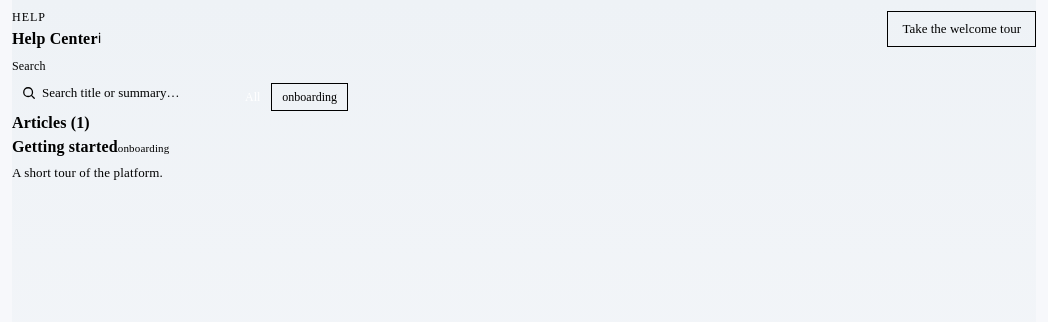
Test: HelpArticleListPage › clears filters via the EmptyState CTA when search yields no results
This screenshot has width=1048, height=322.
Expected: the text "Getting started" is shown, [12,134,118,158]
Click the button "onboarding" at {"x": 310, "y": 96}, box [271,82,348,110]
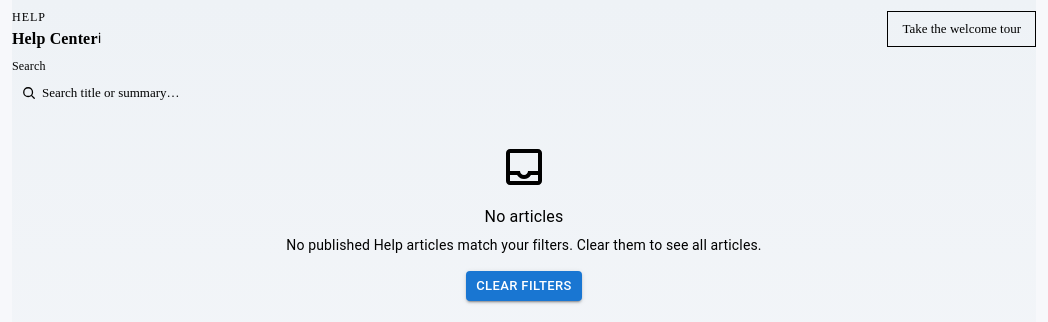
Now the heading "No articles" is shown, box [485,202,563,230]
Now the button "Clear filters" is shown, box [466,270,582,301]
